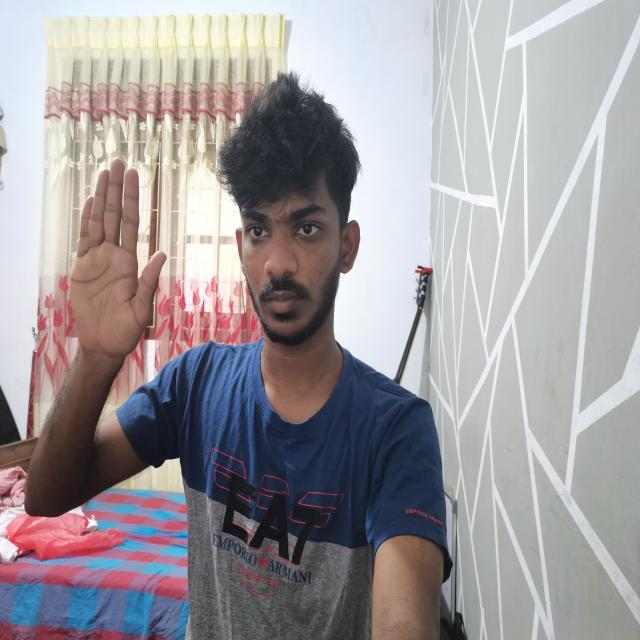Hello: (64, 158, 177, 363)
